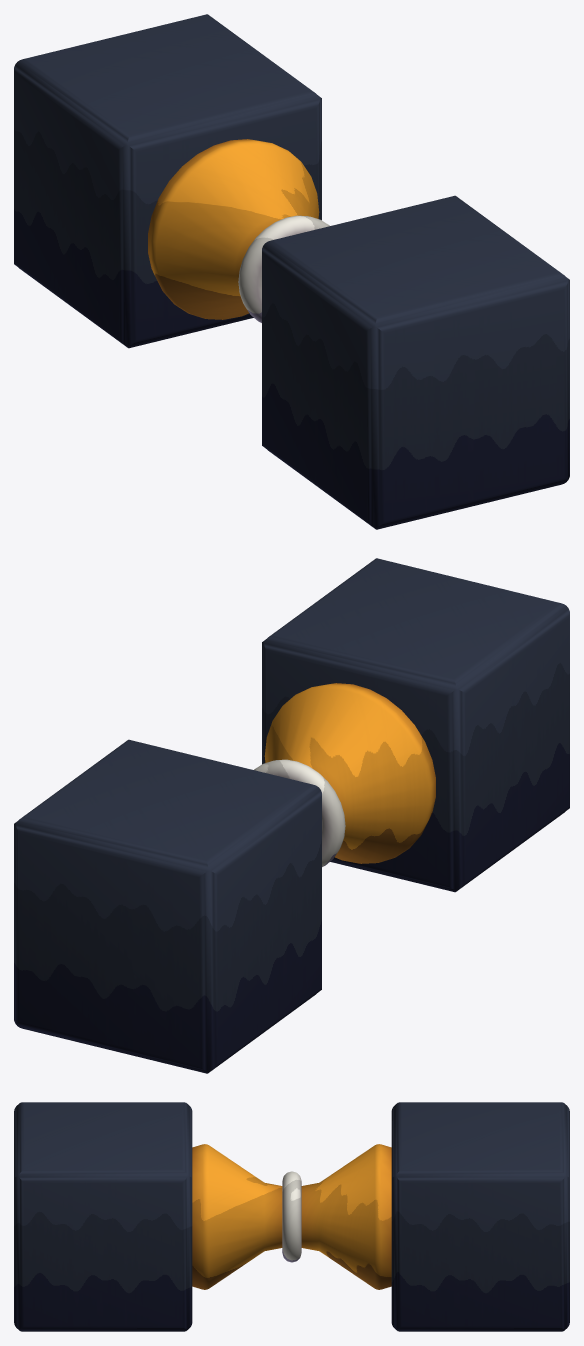
File: R4C_STRUT_STANDARD.glb
3 renders of one model, top to bottom at view 1: azimuth 30°, elevation 25°; view 2: azimuth 150°, elevation 25°; view 3: azimuth 270°, elevation 25°, orthographic. The views are drawn at different scales.
Visible parts, largest first — view 1: R4C_STRUT_STANDARD; view 2: R4C_STRUT_STANDARD; view 3: R4C_STRUT_STANDARD.
Boxes of the visible parts, x1,y1,x2,y2 form: R4C_STRUT_STANDARD: (14,14,569,529); R4C_STRUT_STANDARD: (14,558,569,1073); R4C_STRUT_STANDARD: (14,1102,569,1331).
Bounding box in the file's own units: 0.52 × 0.52 × 1.62.
Materials: 3 (3 with a texture image).
